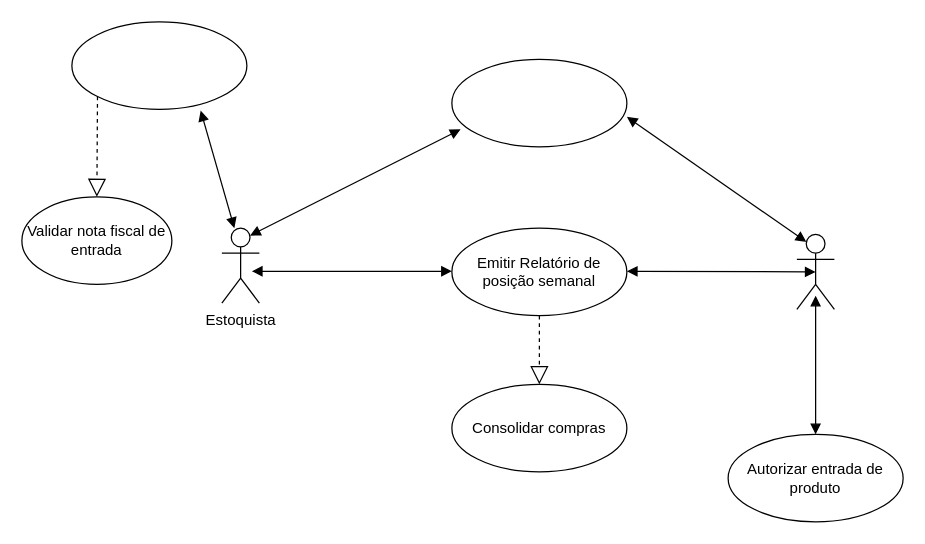
Some shapes in this 925 by 544 pixel diagram are drawn without their labels. Each missing label, with the centre of its shape:
"Gerente de setor" goes at point (815, 271).
"Registrar Entrada de produtos" goes at point (159, 65).
"Solicitar compra de produto" goes at point (539, 102).
